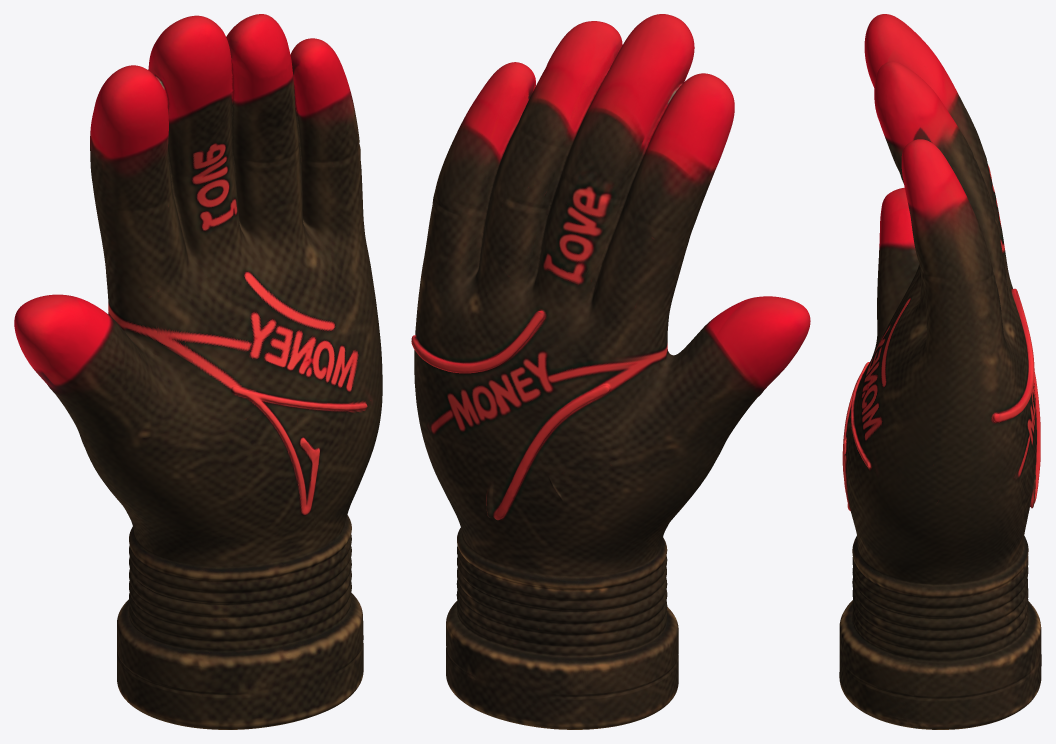
Rendered from left-hand.glb.
The picture shows the model from 3 angles, left to right: view 1: azimuth 30°, elevation 25°; view 2: azimuth 150°, elevation 25°; view 3: azimuth 270°, elevation 25°; orthographic projection. The views are drawn at different scales.
Bounding box in the file's own units: 1.06 × 1.9 × 0.5487.
1 material, 1 textured.
